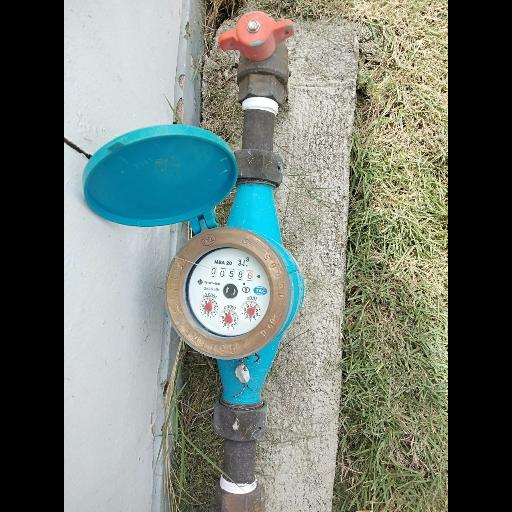0: (219, 267, 226, 279), (211, 267, 218, 278)
5: (228, 269, 235, 280)
6: (245, 270, 253, 282)
8: (237, 269, 244, 281)
border_water_meter_number: (209, 266, 253, 282)
